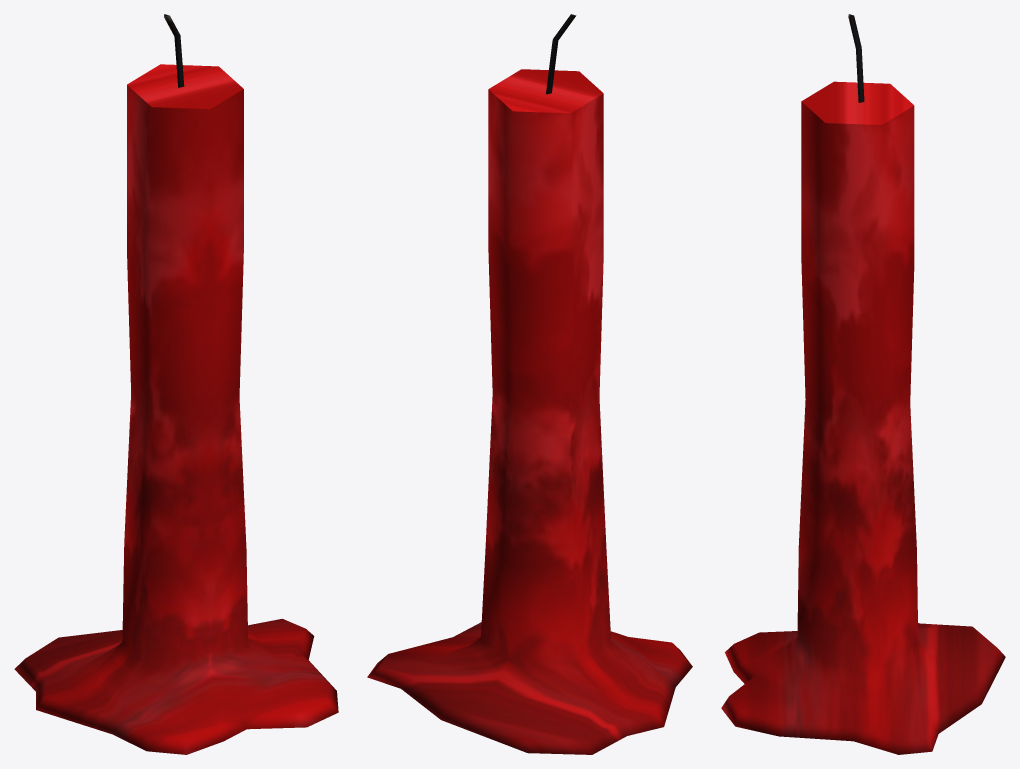
Rendered from Candle.FBX.
3 views of the same model, side by side, from view 1: azimuth 30°, elevation 25°; view 2: azimuth 150°, elevation 25°; view 3: azimuth 270°, elevation 25° (orthographic). The views are drawn at different scales.
Visible parts, largest first — view 1: Cylinder007; view 2: Cylinder007; view 3: Cylinder007.
Boxes of the visible parts, box(x1,y1,x2,y2) form: Cylinder007: box(14, 14, 338, 754); Cylinder007: box(367, 14, 692, 754); Cylinder007: box(721, 14, 1005, 754).
Bounding box in the file's own units: 7.33 × 17.13 × 6.58.
1 material, 1 textured.
